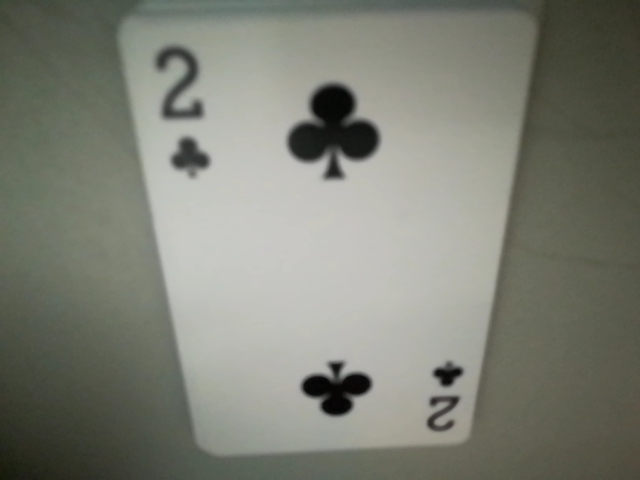mh 2: (134, 29, 223, 194), (418, 354, 470, 440)
